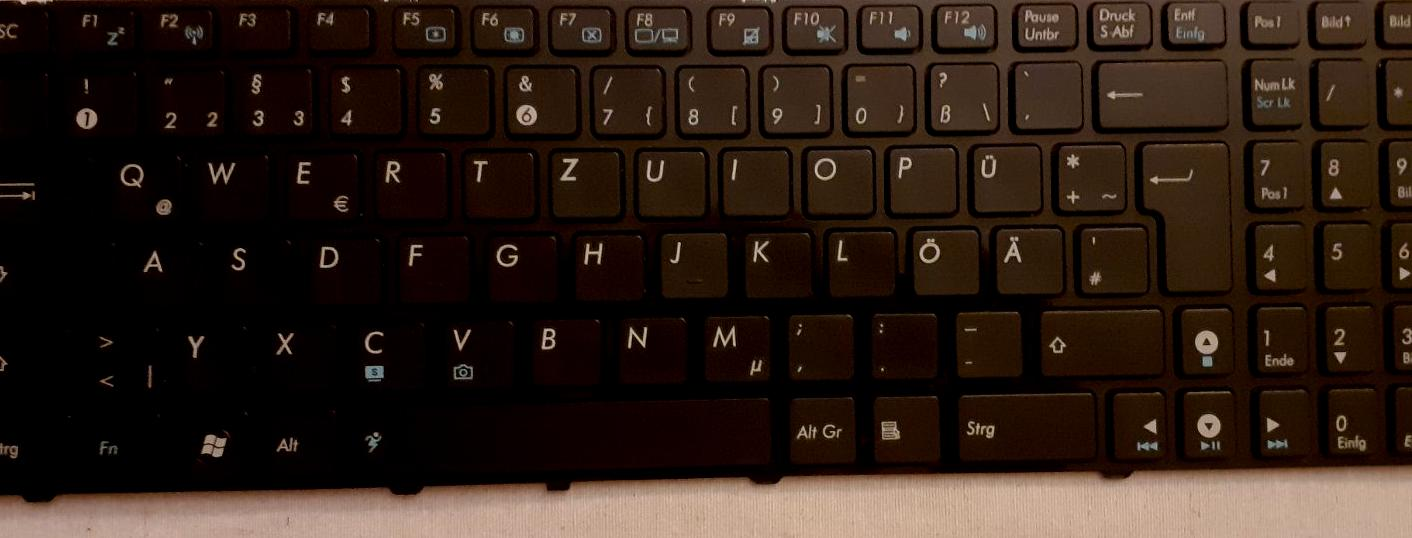0: (840, 59, 915, 134)
1: (58, 65, 141, 141)
2: (148, 65, 229, 139)
3: (235, 63, 315, 138)
4: (325, 62, 403, 136)
5: (413, 61, 492, 137)
6: (500, 61, 578, 137)
7: (588, 61, 664, 136)
8: (672, 61, 747, 136)
9: (756, 60, 832, 135)
a: (127, 235, 206, 310)
accent: (1007, 56, 1082, 130)
ae: (990, 222, 1063, 296)
alt-left: (258, 404, 339, 483)
altgr-right: (784, 393, 857, 465)
b: (526, 314, 604, 387)
c: (350, 315, 431, 394)
caret: (1, 70, 50, 141)
comma: (783, 310, 855, 383)
d: (305, 231, 383, 309)
del: (1092, 55, 1227, 130)
e: (281, 146, 361, 224)
enter: (1136, 138, 1231, 294)
f: (395, 230, 470, 306)
g: (482, 228, 557, 305)
h: (569, 228, 645, 303)
hash: (1073, 221, 1148, 295)
i: (717, 144, 789, 217)
j: (656, 227, 727, 300)
k: (740, 226, 812, 301)
keyboard: (1, 1, 1412, 509)
l: (823, 224, 895, 300)
less: (84, 321, 163, 400)
m: (697, 311, 772, 386)
minus: (950, 308, 1024, 379)
n: (614, 313, 689, 386)
o: (798, 142, 874, 217)
oe: (906, 223, 979, 298)
p: (882, 141, 957, 215)
plus: (1049, 138, 1125, 213)
point: (867, 309, 939, 381)
q: (101, 150, 185, 224)
r: (370, 145, 450, 223)
s: (215, 234, 294, 312)
shift-left: (1, 326, 73, 400)
shift-lock: (1, 235, 118, 312)
shift-right: (1036, 303, 1163, 378)
space: (351, 396, 774, 478)
ss: (923, 58, 998, 133)
strg-left: (1, 409, 73, 493)
strg-right: (952, 389, 1097, 464)
t: (459, 145, 537, 220)
tab: (1, 152, 96, 227)
u: (631, 144, 706, 219)
ue: (965, 140, 1041, 215)
v: (440, 315, 517, 391)
w: (193, 148, 272, 224)
x: (262, 316, 339, 396)
y: (171, 321, 251, 396)
z: (546, 144, 622, 221)
